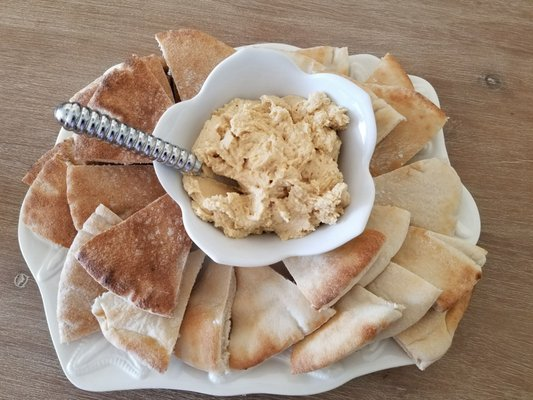soup: (57, 196, 205, 374)
sushi: (151, 41, 379, 268)
